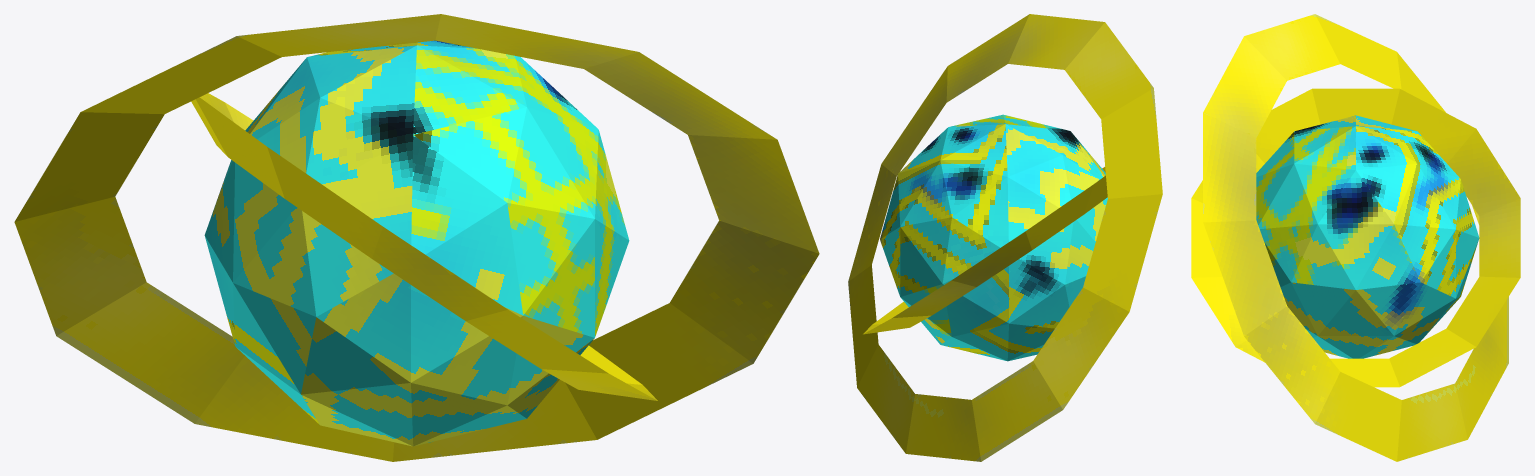
File: soul_happy_1.gltf
The picture shows the model from 3 angles, left to right: view 1: azimuth 30°, elevation 25°; view 2: azimuth 150°, elevation 25°; view 3: azimuth 270°, elevation 25°; orthographic projection. The views are drawn at different scales.
Visible parts, largest first — view 1: circle; view 2: circle; view 3: circle.
Part boxes in pixels (left/top/right/bottom): circle: left=14, top=14, right=819, bottom=461; circle: left=848, top=14, right=1162, bottom=461; circle: left=1191, top=14, right=1520, bottom=461.
Bounding box in the file's own units: 1.25 × 1.22 × 1.
Materials: 1 (1 with a texture image).
